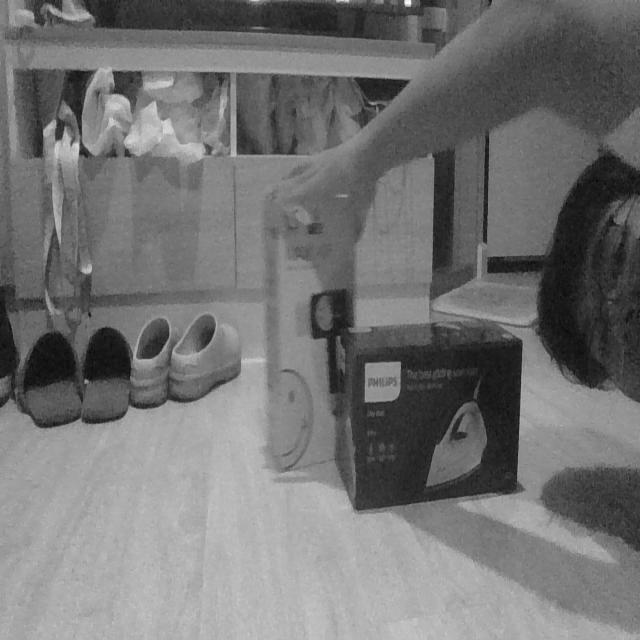IRON: (336, 314, 524, 516)
